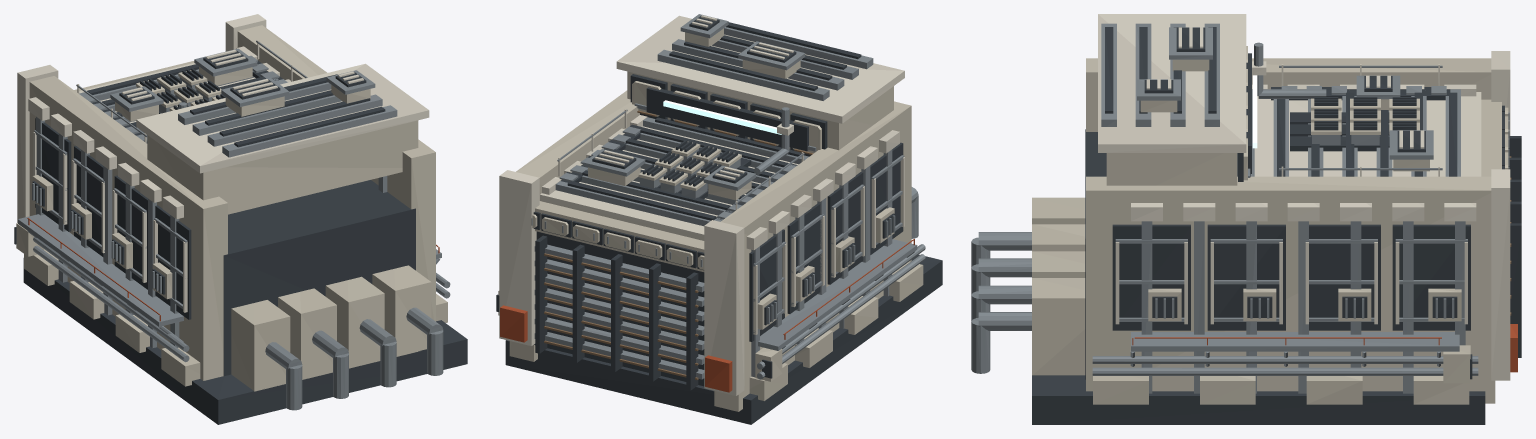
File: receiver-primary.glb
3 renders of one model, left to right at view 1: azimuth 30°, elevation 25°; view 2: azimuth 150°, elevation 25°; view 3: azimuth 270°, elevation 25°, orthographic. The views are drawn at different scales.
Parts seen in each view (by area): view 1: receiver-primary__ceramic, receiver-primary__graphite, receiver-primary__metal, receiver-primary__edge; view 2: receiver-primary__graphite, receiver-primary__metal, receiver-primary__edge, receiver-primary__ceramic, receiver-primary__coil, receiver-primary__oxide, receiver-primary__light; view 3: receiver-primary__ceramic, receiver-primary__graphite, receiver-primary__metal, receiver-primary__edge, receiver-primary__oxide.
Boxes of the visible parts, x1,y1,x2,y2 form: receiver-primary__ceramic: (16,25,447,391); receiver-primary__graphite: (14,50,467,424); receiver-primary__metal: (18,40,450,410); receiver-primary__edge: (17,14,429,312); receiver-primary__graphite: (496,15,942,424); receiver-primary__metal: (531,14,925,379); receiver-primary__edge: (499,15,904,395); receiver-primary__ceramic: (498,28,923,411); receiver-primary__coil: (544,110,813,380); receiver-primary__oxide: (500,239,914,392); receiver-primary__light: (663,100,781,134); receiver-primary__ceramic: (1032,46,1508,404); receiver-primary__graphite: (1032,27,1521,424); receiver-primary__metal: (971,23,1509,393); receiver-primary__edge: (1098,14,1510,380); receiver-primary__oxide: (1132,324,1517,372).
Size of the model in its own units: 321 by 284 by 464.
